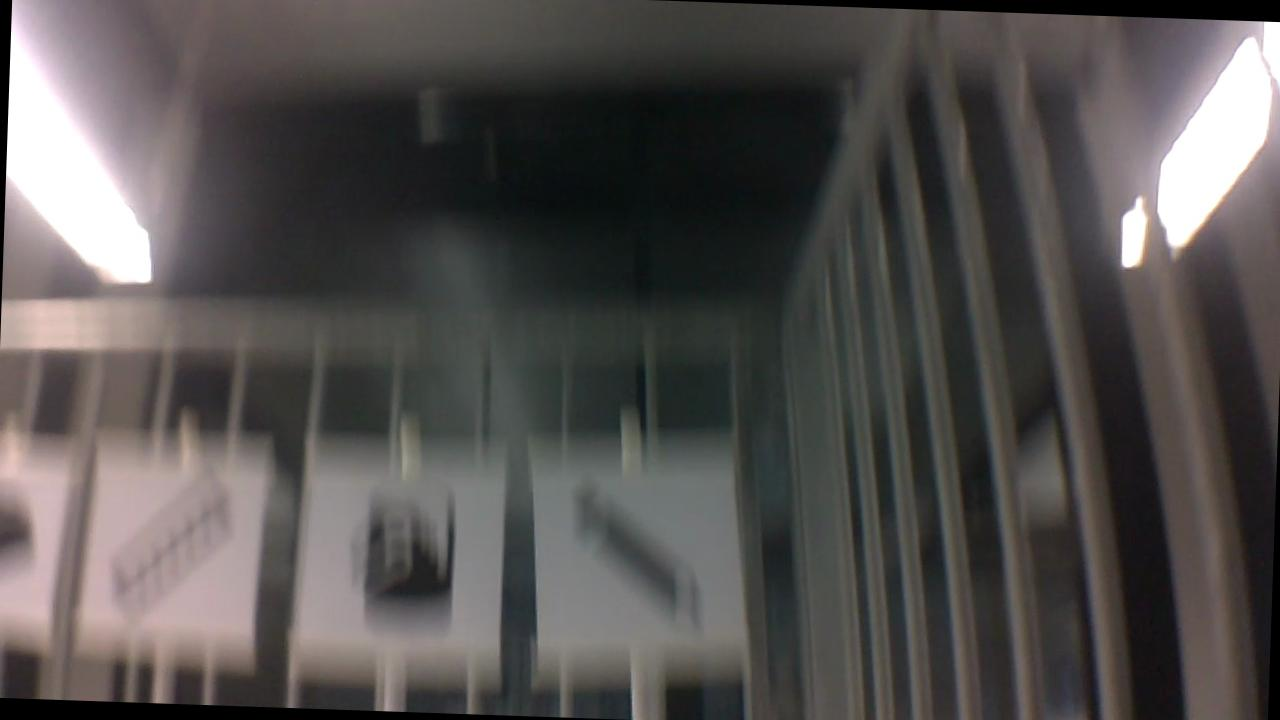bucket: (333, 478, 465, 636)
pencil: (550, 476, 711, 631)
